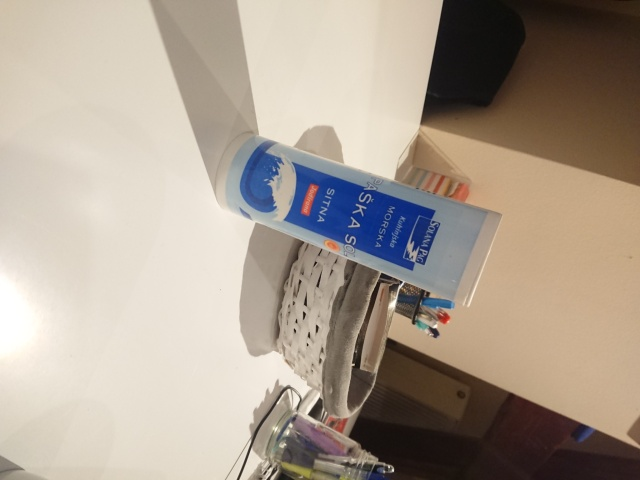Solana Pag Fine Sea Salt 250g: (212, 129, 505, 310)
